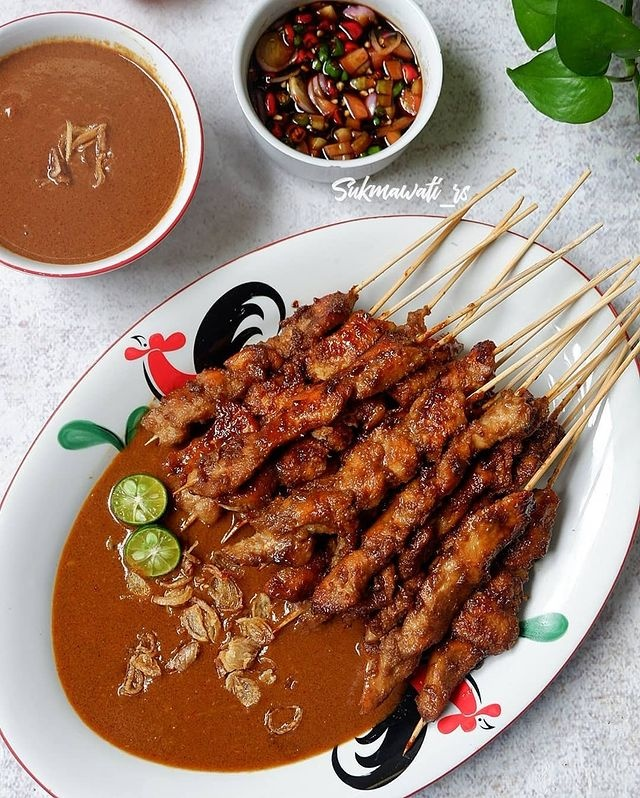sate: (140, 170, 640, 762)
